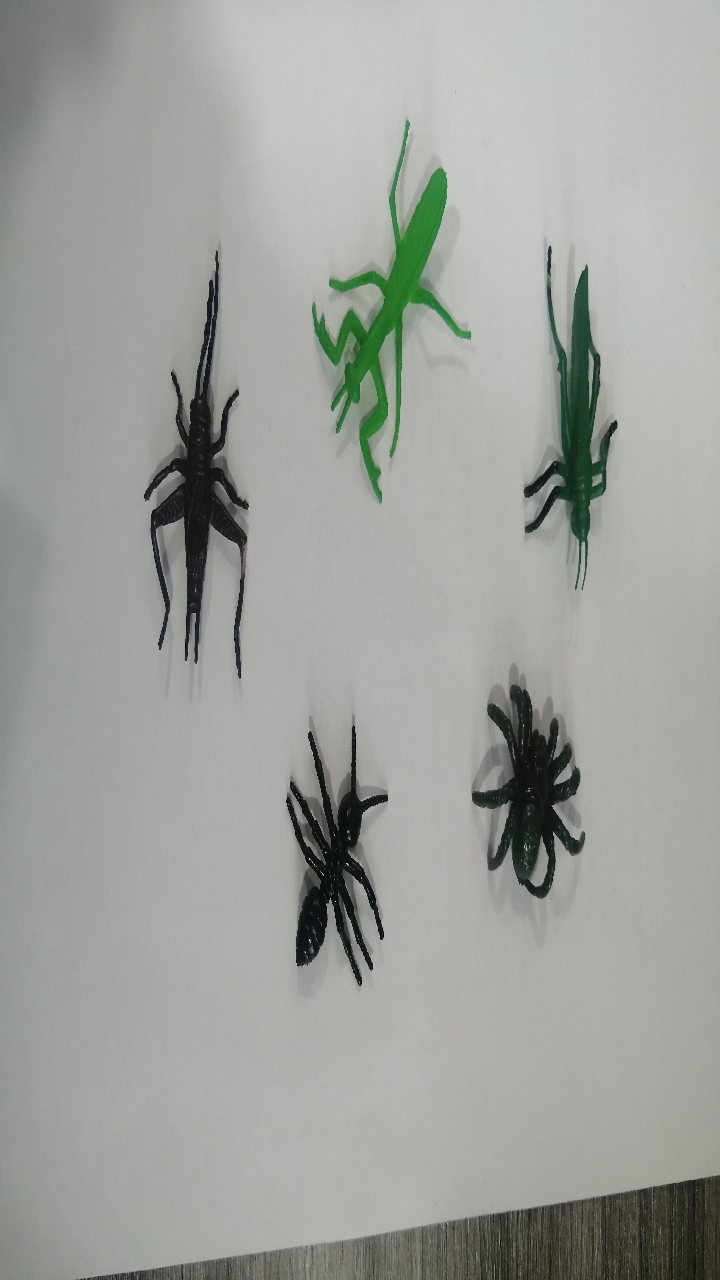intruso: (97, 231, 271, 691), (280, 94, 469, 515), (492, 214, 654, 622), (251, 697, 417, 1014), (438, 645, 618, 920)
